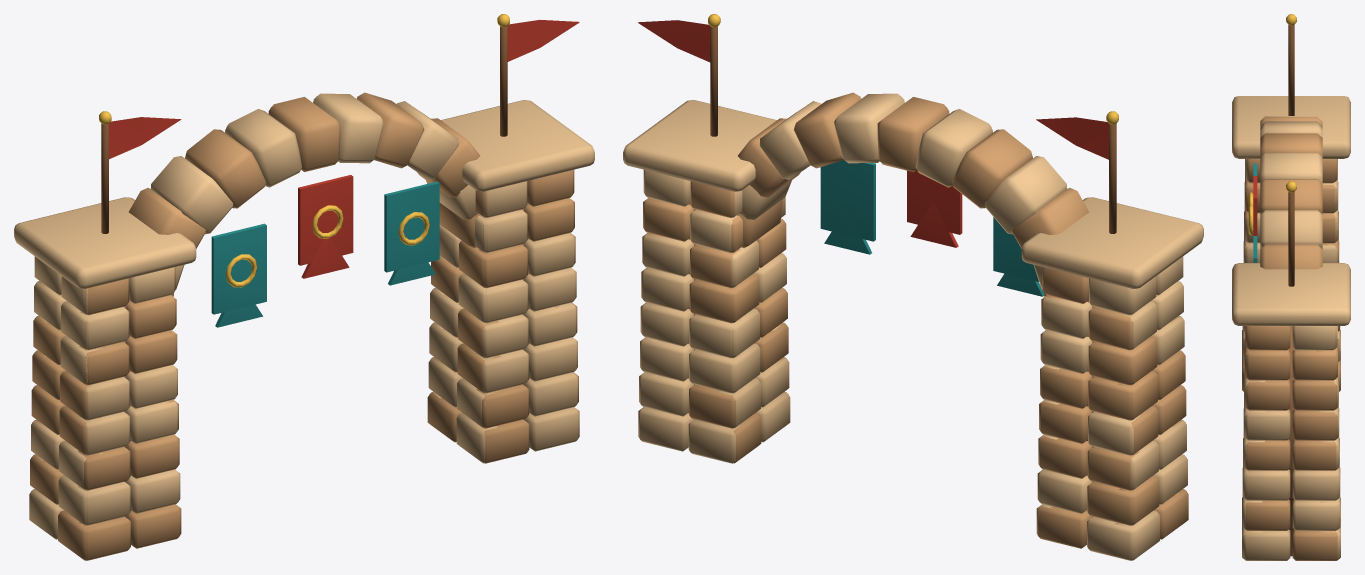
File: desert_arch.glb
3 views of the same model, side by side, from view 1: azimuth 30°, elevation 25°; view 2: azimuth 150°, elevation 25°; view 3: azimuth 270°, elevation 25° (orthographic). The views are drawn at different scales.
Parts seen in each view (by area): view 1: D_Arch__D_s2, D_Arch__D_s1, D_Arch__D_teal, D_Arch__D_red, D_Arch__D_gold, D_Arch__D_wood; view 2: D_Arch__D_s2, D_Arch__D_s1, D_Arch__D_red, D_Arch__D_teal, D_Arch__D_wood; view 3: D_Arch__D_s2, D_Arch__D_s1, D_Arch__D_wood, D_Arch__D_s3, D_Arch__D_gold, D_Arch__D_red, D_Arch__D_teal.
Boxes of the visible parts, x1,y1,x2,y2 form: D_Arch__D_s2: [14, 93, 594, 539]; D_Arch__D_s1: [30, 92, 578, 560]; D_Arch__D_teal: [211, 181, 439, 327]; D_Arch__D_red: [109, 20, 579, 278]; D_Arch__D_gold: [99, 14, 509, 287]; D_Arch__D_wood: [101, 26, 507, 233]; D_Arch__D_s2: [623, 93, 1203, 560]; D_Arch__D_s1: [638, 92, 1188, 548]; D_Arch__D_red: [638, 20, 1108, 247]; D_Arch__D_teal: [820, 160, 1043, 296]; D_Arch__D_wood: [710, 26, 1116, 233]; D_Arch__D_s2: [1232, 96, 1350, 560]; D_Arch__D_s1: [1242, 117, 1340, 560]; D_Arch__D_wood: [1288, 25, 1294, 286]; D_Arch__D_s3: [1288, 326, 1294, 556]; D_Arch__D_gold: [1248, 14, 1296, 235]; D_Arch__D_red: [1253, 176, 1257, 235]; D_Arch__D_teal: [1253, 163, 1257, 262].
Bounding box in the file's own units: 8.05 × 6.04 × 1.8.
